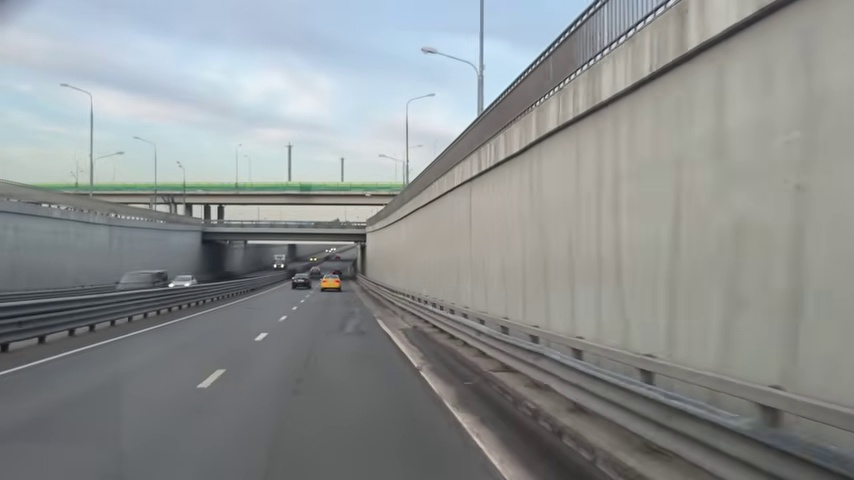apagada: (418, 44, 438, 59)
